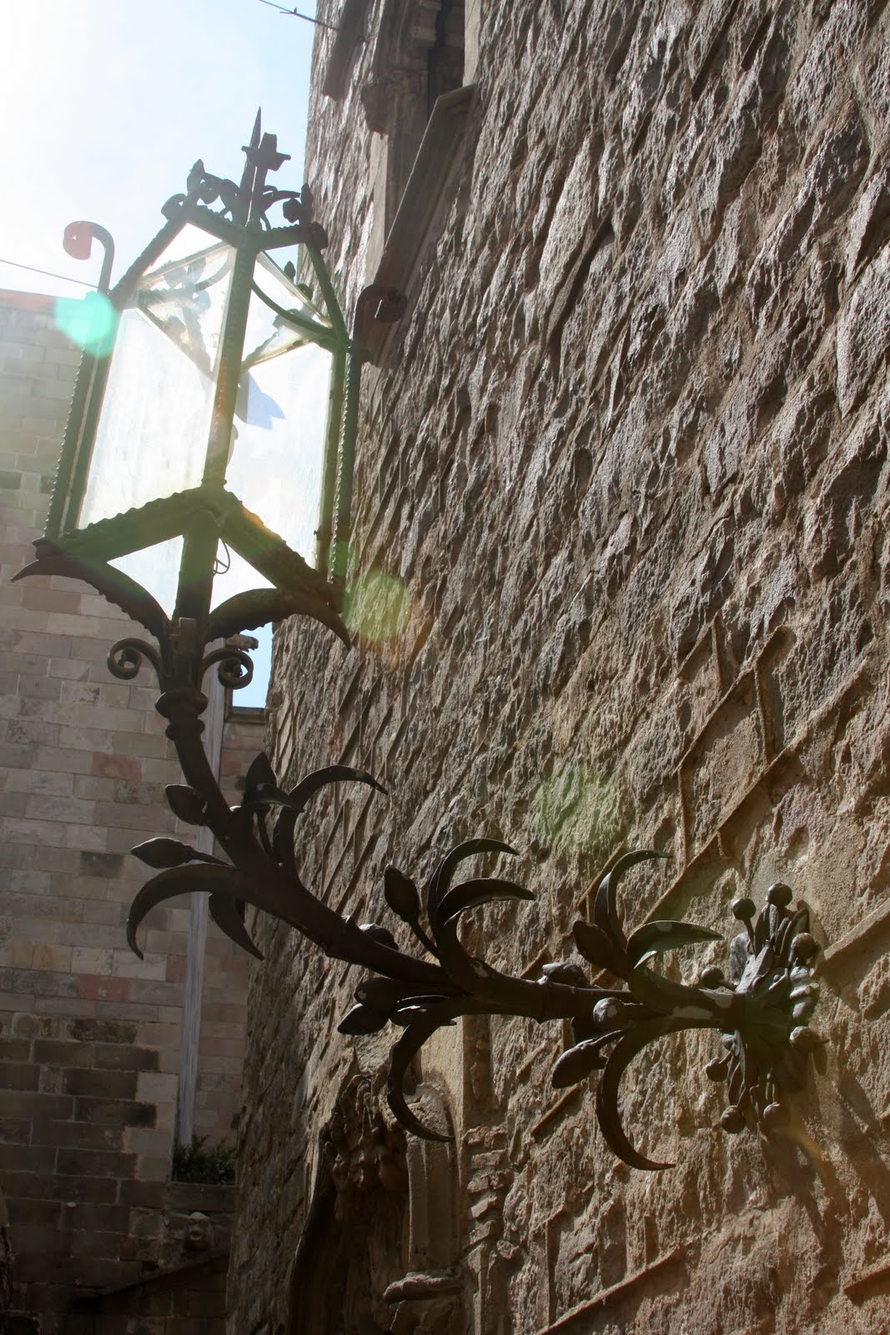fachada: (229, 0, 890, 1331), (0, 229, 284, 1335)
poste: (54, 100, 826, 1110)
